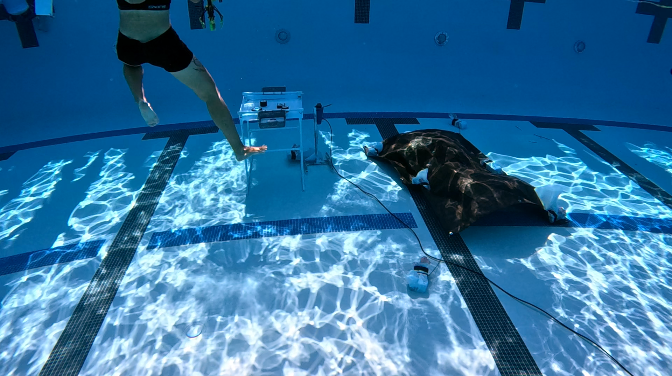sandbag: (363, 119, 550, 237)
